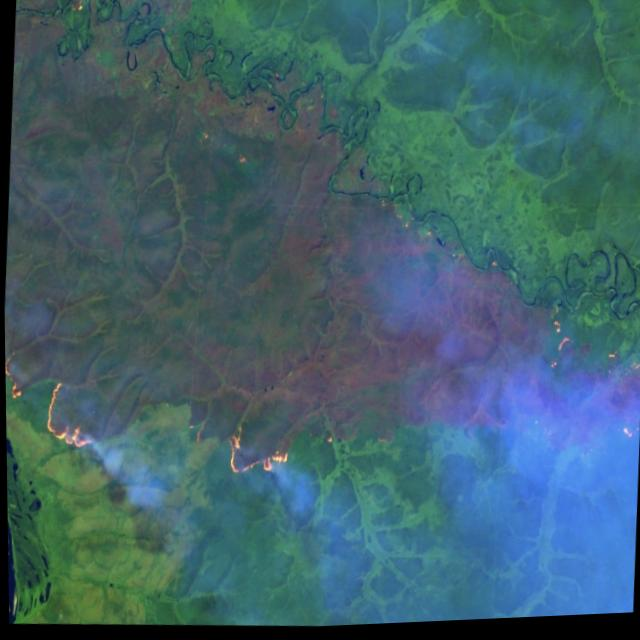fire: (218, 414, 298, 490), (39, 373, 98, 462), (589, 351, 640, 391), (540, 322, 570, 380), (4, 342, 24, 408), (614, 430, 639, 448), (68, 0, 84, 23), (323, 431, 335, 455)
